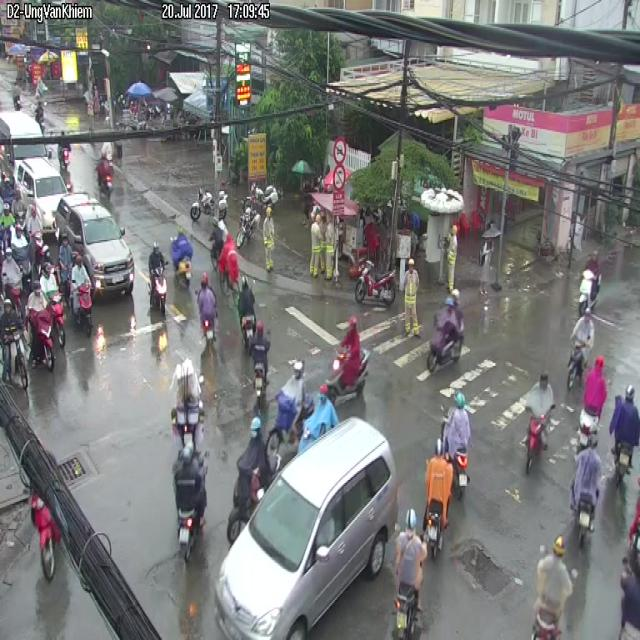car: (392, 508, 427, 639), (174, 440, 207, 560), (438, 393, 471, 498), (26, 280, 63, 369), (171, 359, 203, 446), (426, 450, 452, 527), (354, 259, 396, 305), (525, 415, 547, 473), (152, 273, 166, 316)
traffic-light: (216, 418, 398, 639), (56, 194, 134, 295), (15, 159, 69, 231)
